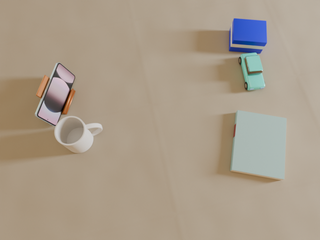book: (230, 110, 286, 180)
box: (229, 18, 267, 53)
cup: (55, 116, 102, 153)
phone: (35, 63, 75, 126)
toy_car: (239, 53, 265, 90)
